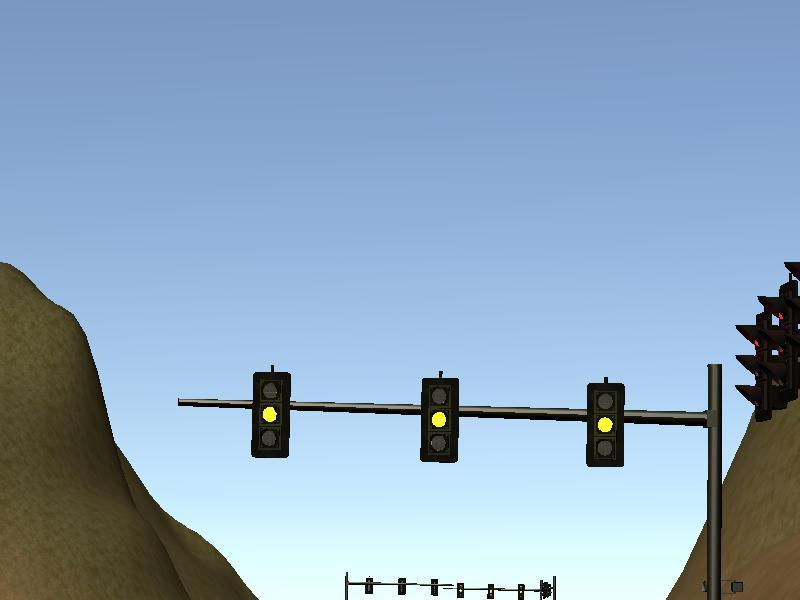Yellow: (253, 372, 289, 457), (420, 379, 457, 461), (587, 384, 624, 465)
